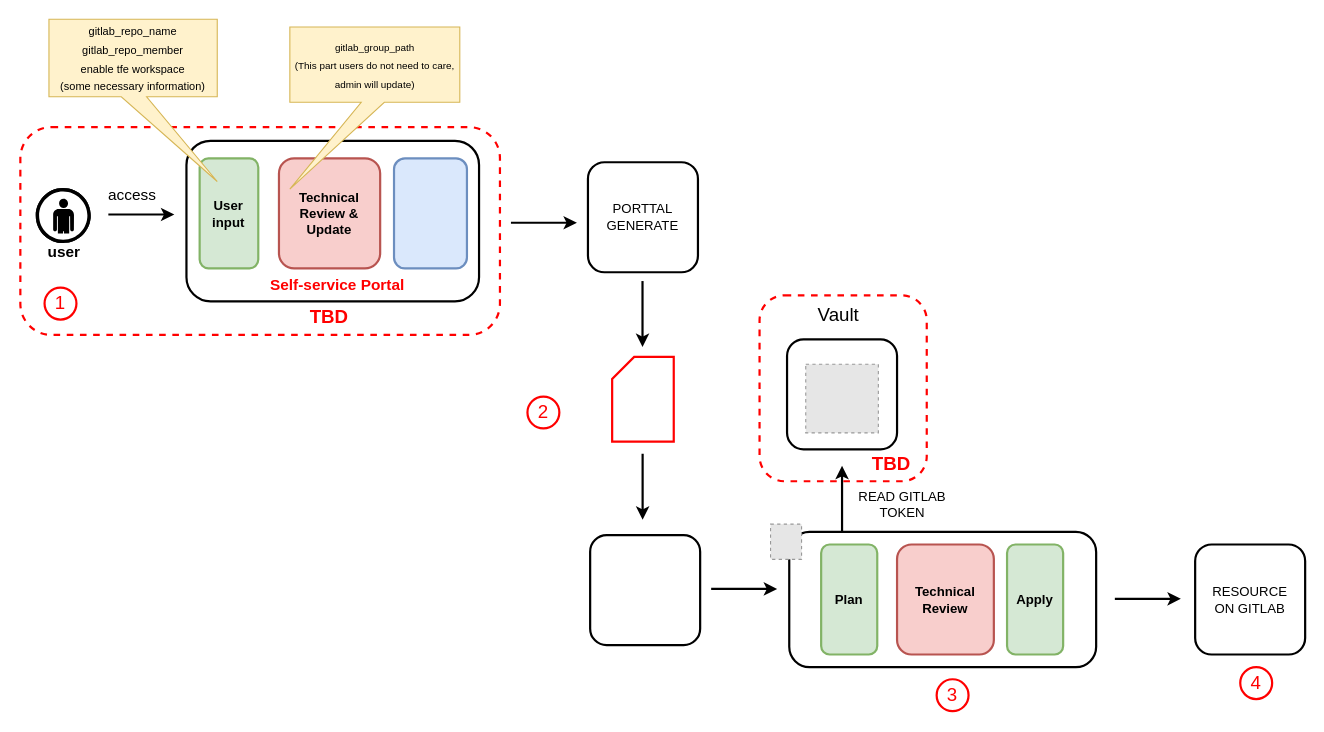
Some shapes in this 1324 by 732 pixel diagram are drawn without their labels. Grey dashed boxes stand in for pictures. Here are the shapes that lost their labels. From the top down, the centre of each, then its label:
(x=430, y=213): Approve
(x=642, y=398): YAML
(x=644, y=590): SHARE REPO
